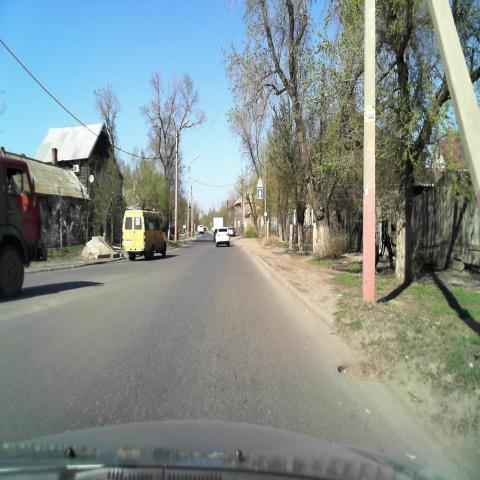2_3_3: (256, 177, 263, 187)
5_5: (257, 188, 263, 198)
